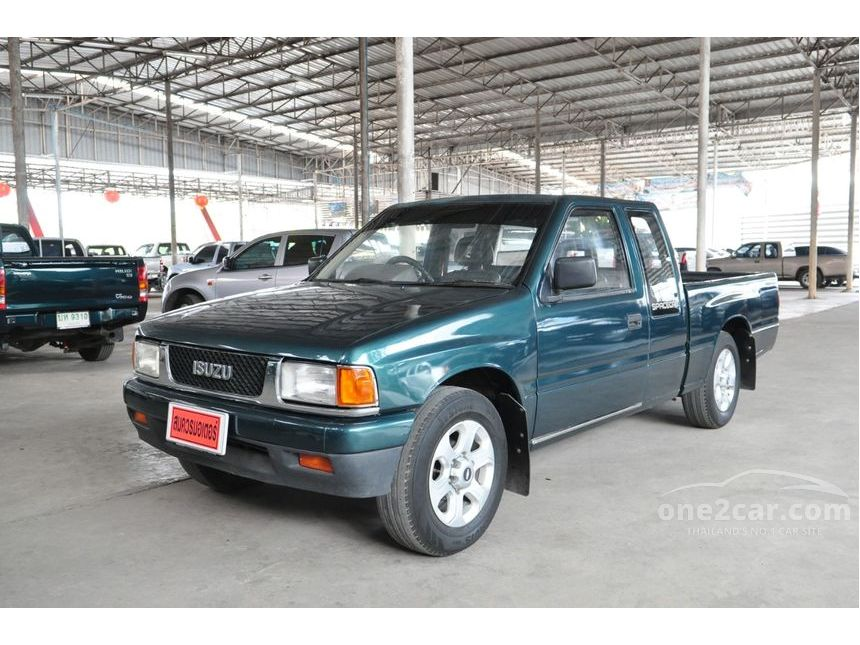pickup: (121, 192, 783, 557)
